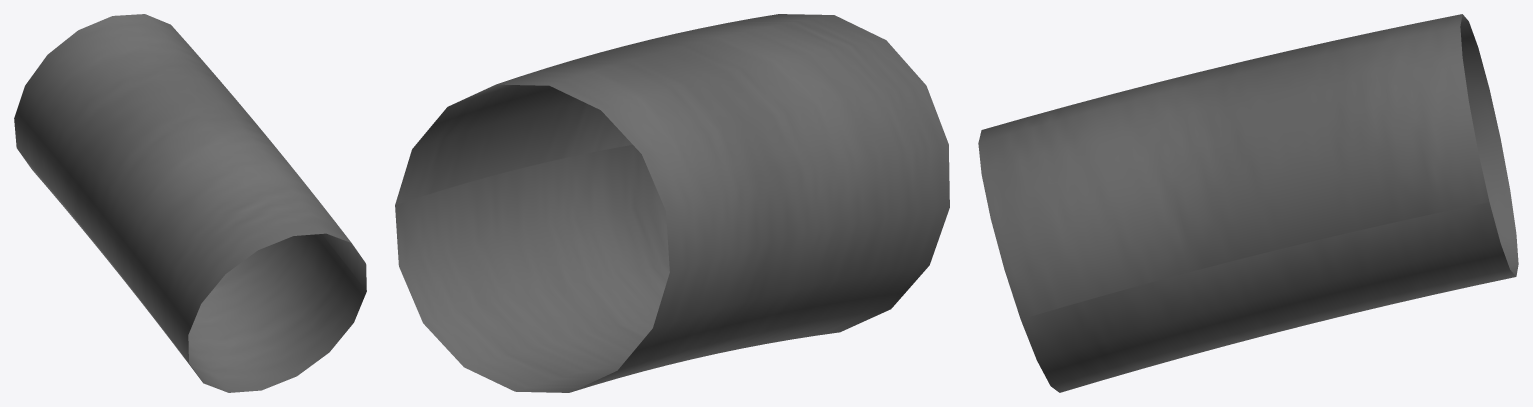
The model's file is mastarmcurve_6x2_c5.obj.
3 views of the same model, side by side, from view 1: azimuth 30°, elevation 25°; view 2: azimuth 150°, elevation 25°; view 3: azimuth 270°, elevation 25° (orthographic). The views are drawn at different scales.
Parts seen in each view (by area): view 1: mastarm_6x2_c5; view 2: mastarm_6x2_c5; view 3: mastarm_6x2_c5.
Boxes of the visible parts, <box> form: mastarm_6x2_c5: <box>14,14,366,392</box>; mastarm_6x2_c5: <box>395,14,949,392</box>; mastarm_6x2_c5: <box>978,14,1518,392</box>.
Bounding box in the file's own units: 0.5365 × 0.7618 × 1.06.
